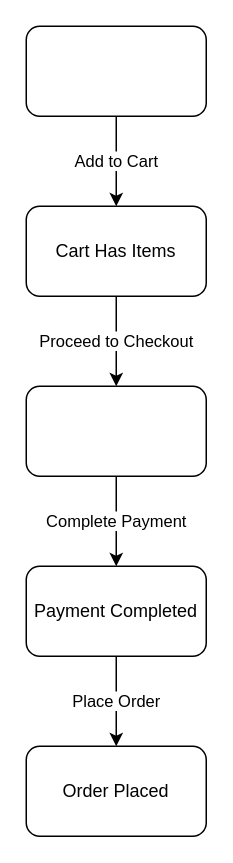
Image size: 233x863. Some labels were removed from this diagram. Each missing label, with the centre of its shape:
Cart Empty: the point at 115,70
Checkout Processing: the point at 115,430
